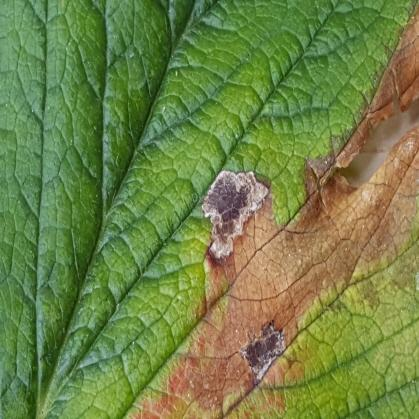Angular Leafspot: (120, 1, 418, 418)
